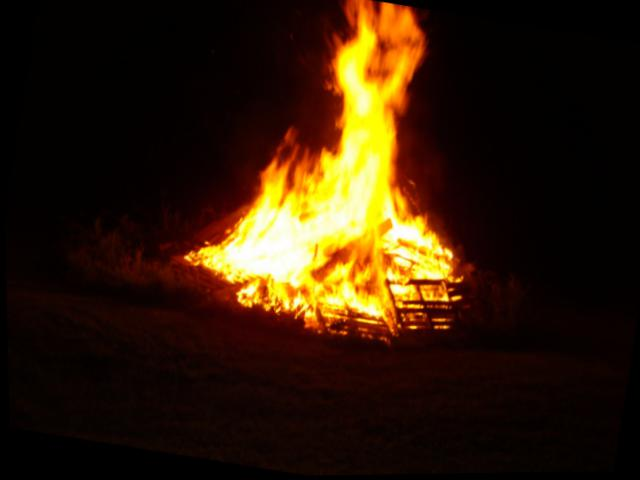fire: (171, 0, 519, 359)
